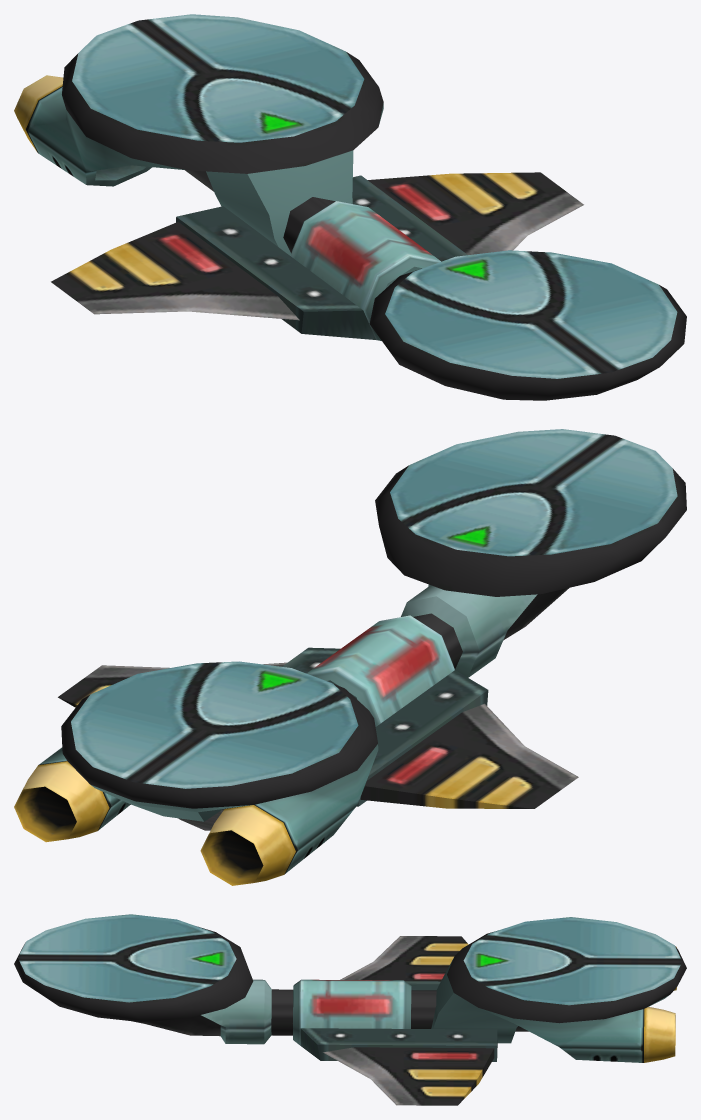
The model's file is board-lod0.glb.
The picture shows the model from 3 angles, top to bottom: view 1: azimuth 30°, elevation 25°; view 2: azimuth 150°, elevation 25°; view 3: azimuth 270°, elevation 25°; orthographic projection. The views are drawn at different scales.
Parts seen in each view (by area): view 1: 1b2; view 2: 1b2; view 3: 1b2.
Part boxes in pixels (<box>): 1b2: <box>14,14,686,400</box>; 1b2: <box>14,429,686,885</box>; 1b2: <box>14,914,686,1105</box>.
Size of the model in its own units: 1.2 by 0.2955 by 2.07.
Materials: 1 (1 with a texture image).
